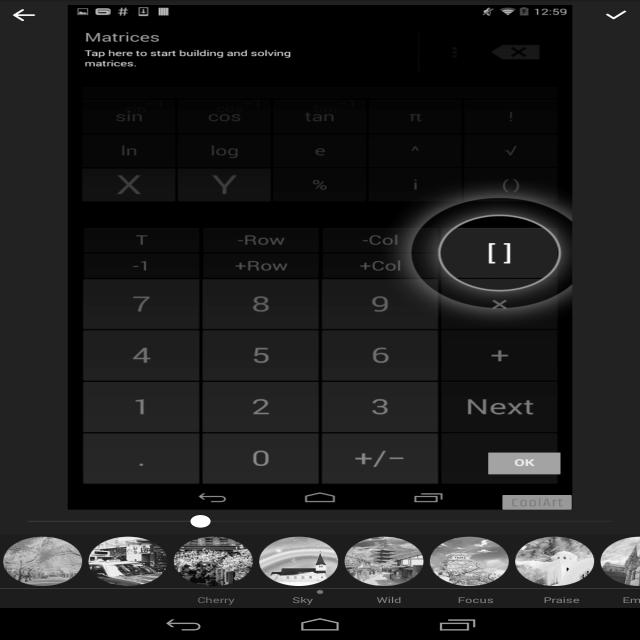Button: (481, 448, 570, 480), (498, 492, 578, 512)
ImageButton: (599, 6, 634, 28), (10, 7, 42, 26)
ImageView: (16, 538, 625, 583), (419, 202, 582, 302)
TextView: (76, 30, 302, 69), (195, 170, 282, 202), (346, 439, 426, 473), (464, 396, 545, 421), (118, 293, 182, 322), (238, 344, 293, 376)
